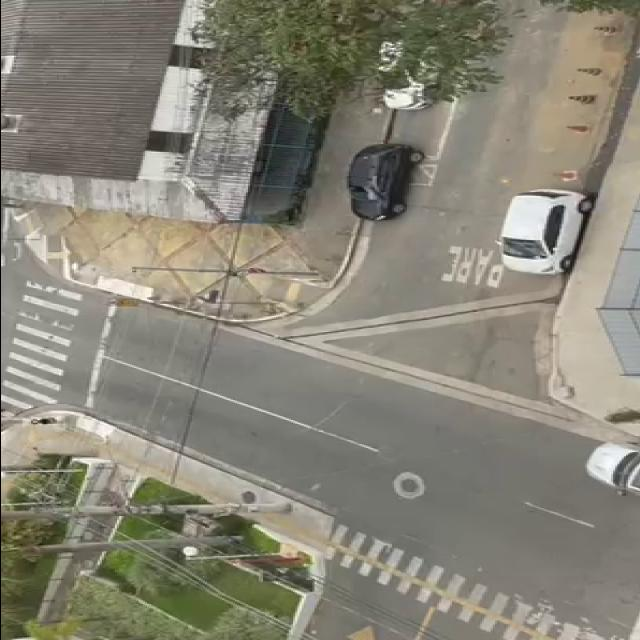car: (486, 185, 598, 277), (362, 0, 444, 118), (334, 140, 426, 228), (571, 433, 640, 505)
